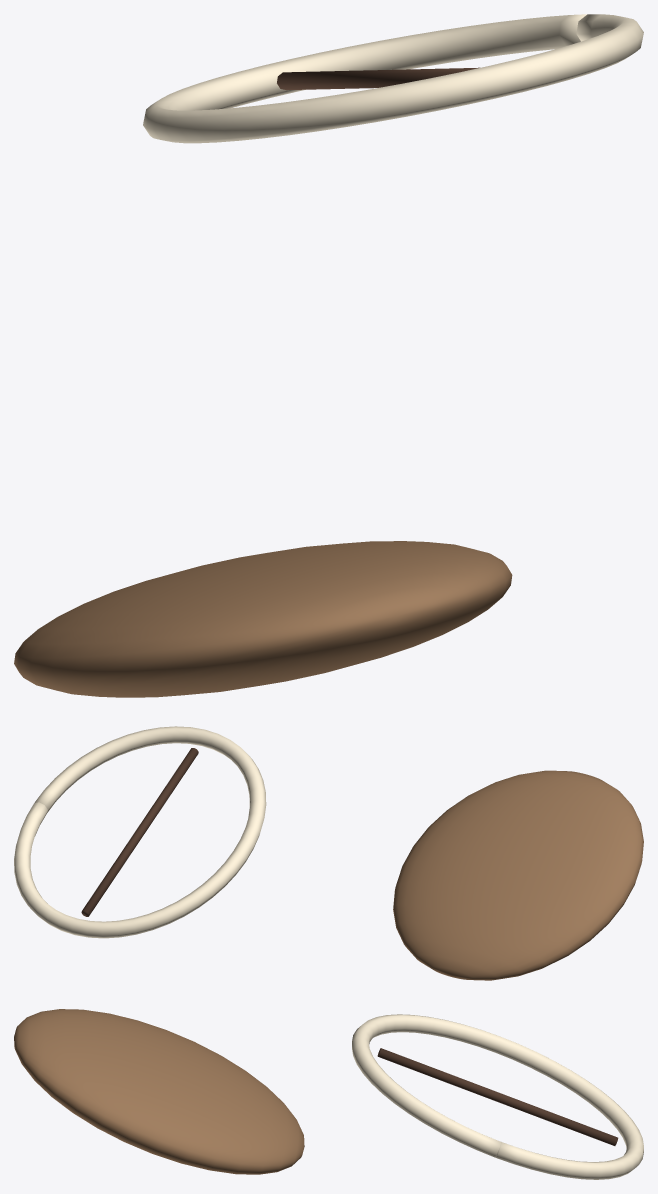
Rendered from Prop_Shield.fbx.
3 views of the same model, one above another, from view 1: azimuth 30°, elevation 25°; view 2: azimuth 150°, elevation 25°; view 3: azimuth 270°, elevation 25° (orthographic). The views are drawn at different scales.
Parts seen in each view (by area): view 1: Prop_Shield; view 2: Prop_Shield; view 3: Prop_Shield.
Part boxes in pixels (x1,y1,x2,y2): Prop_Shield: [14, 14, 643, 697]; Prop_Shield: [14, 726, 643, 980]; Prop_Shield: [14, 1009, 643, 1179].
Bounding box in the file's own units: 1.31 × 0.6206 × 1.52.
